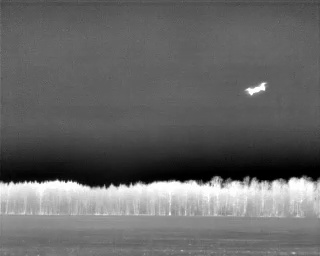DRONE: (241, 77, 271, 100)
